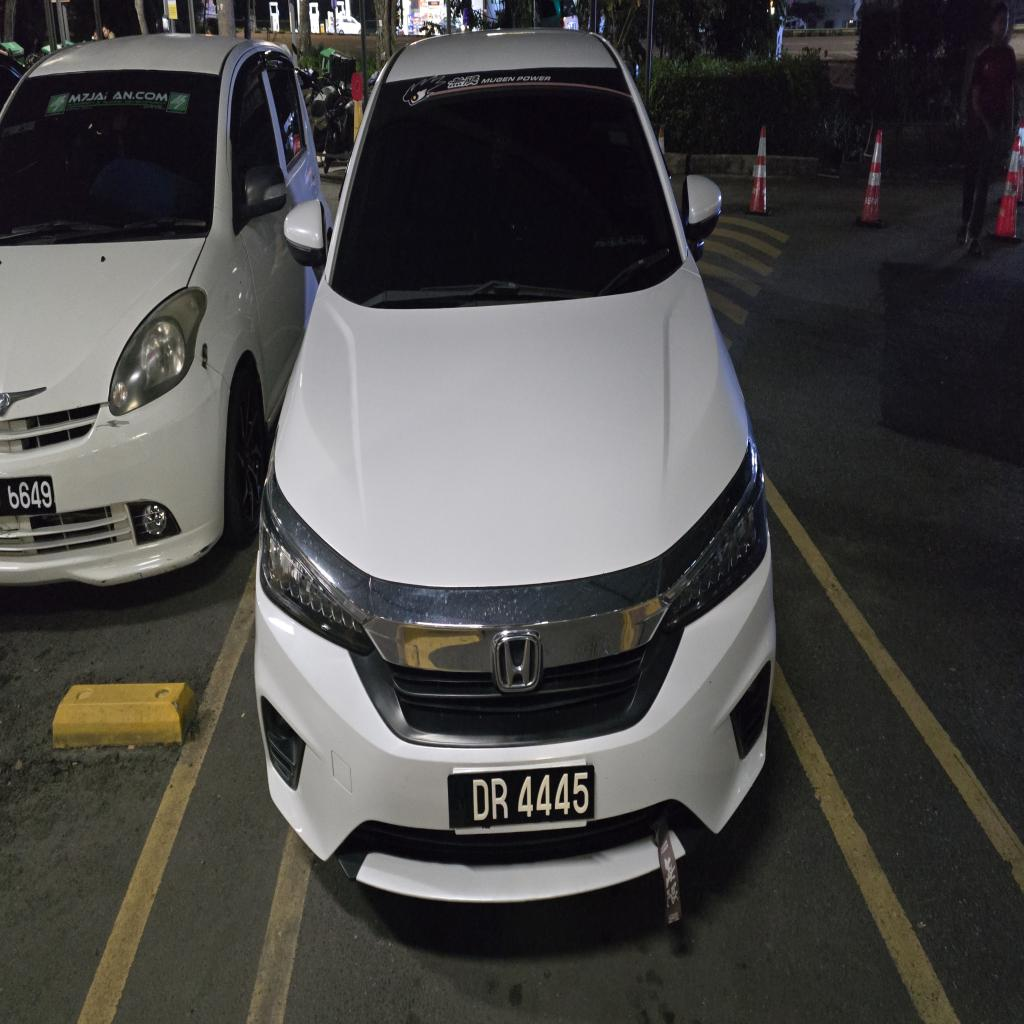car: (255, 30, 775, 901)
car plate: (447, 764, 595, 828)
